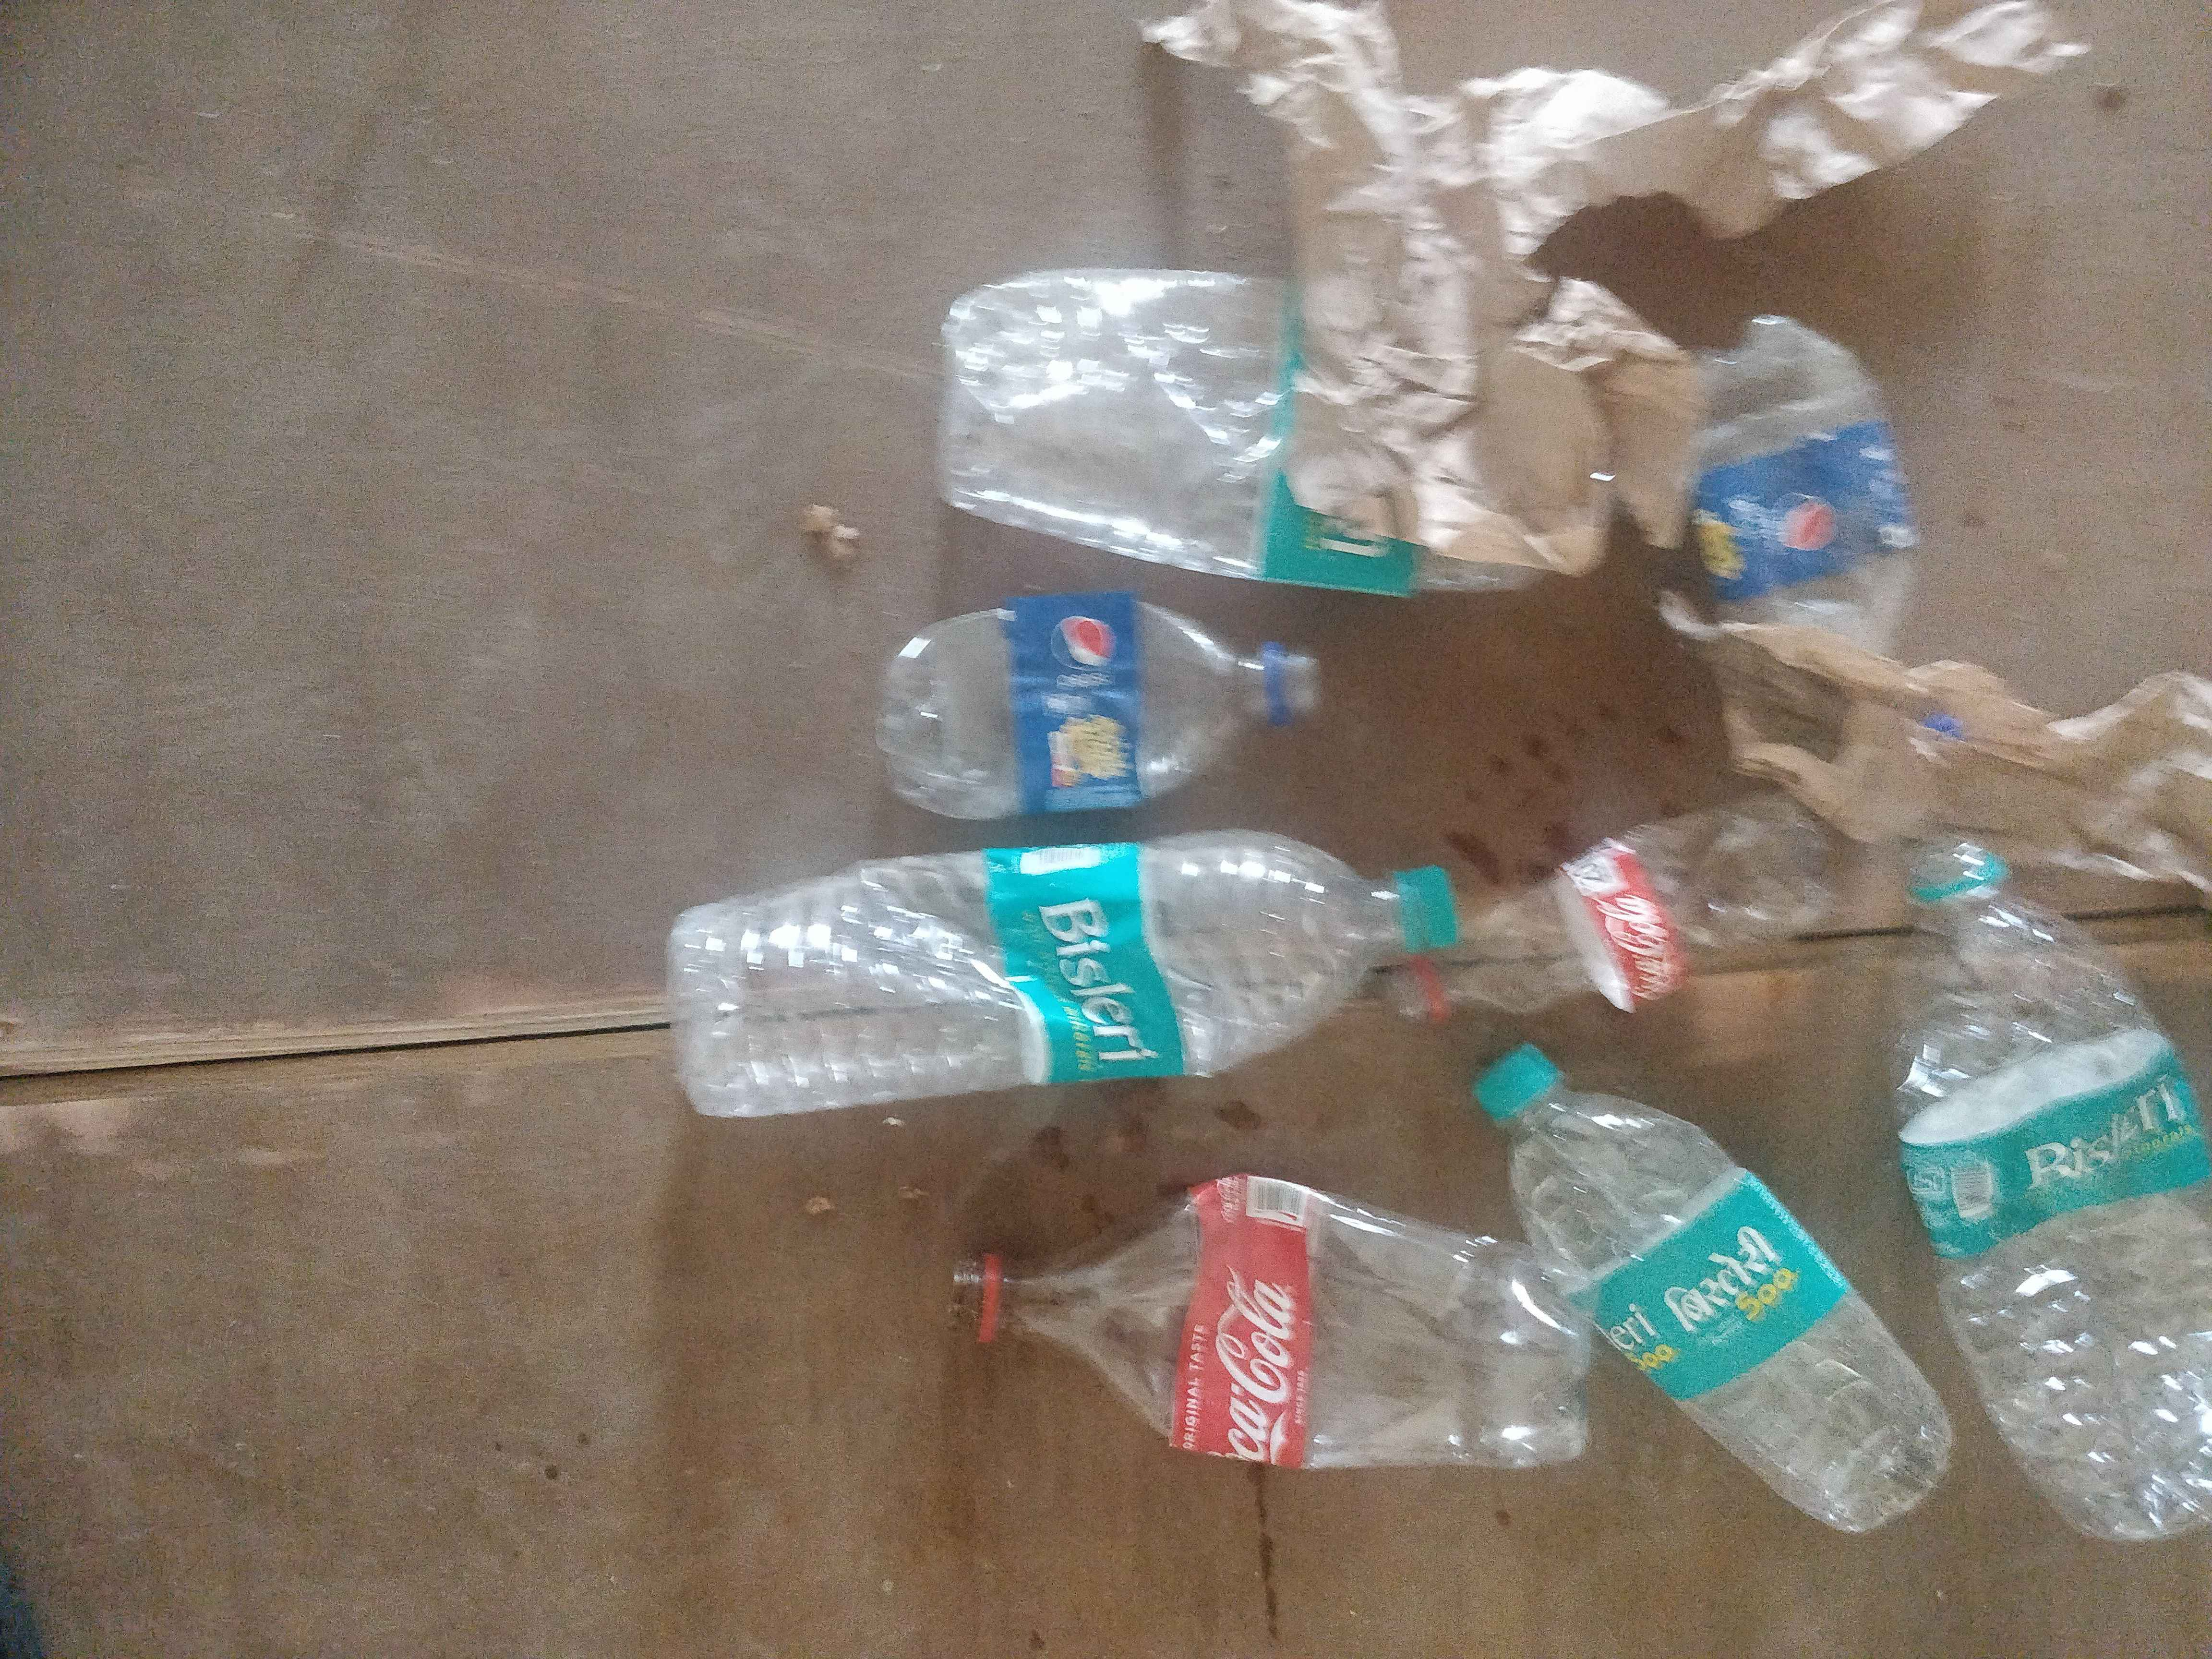Bisleri: (1939, 1091, 2205, 1234), (1019, 861, 1191, 1063), (1629, 1208, 1803, 1364), (1263, 477, 1444, 606)
Coca-Cola: (1193, 1180, 1303, 1473), (1585, 868, 1695, 1018)
pepsi: (1703, 444, 1897, 596), (1028, 603, 1146, 795)
